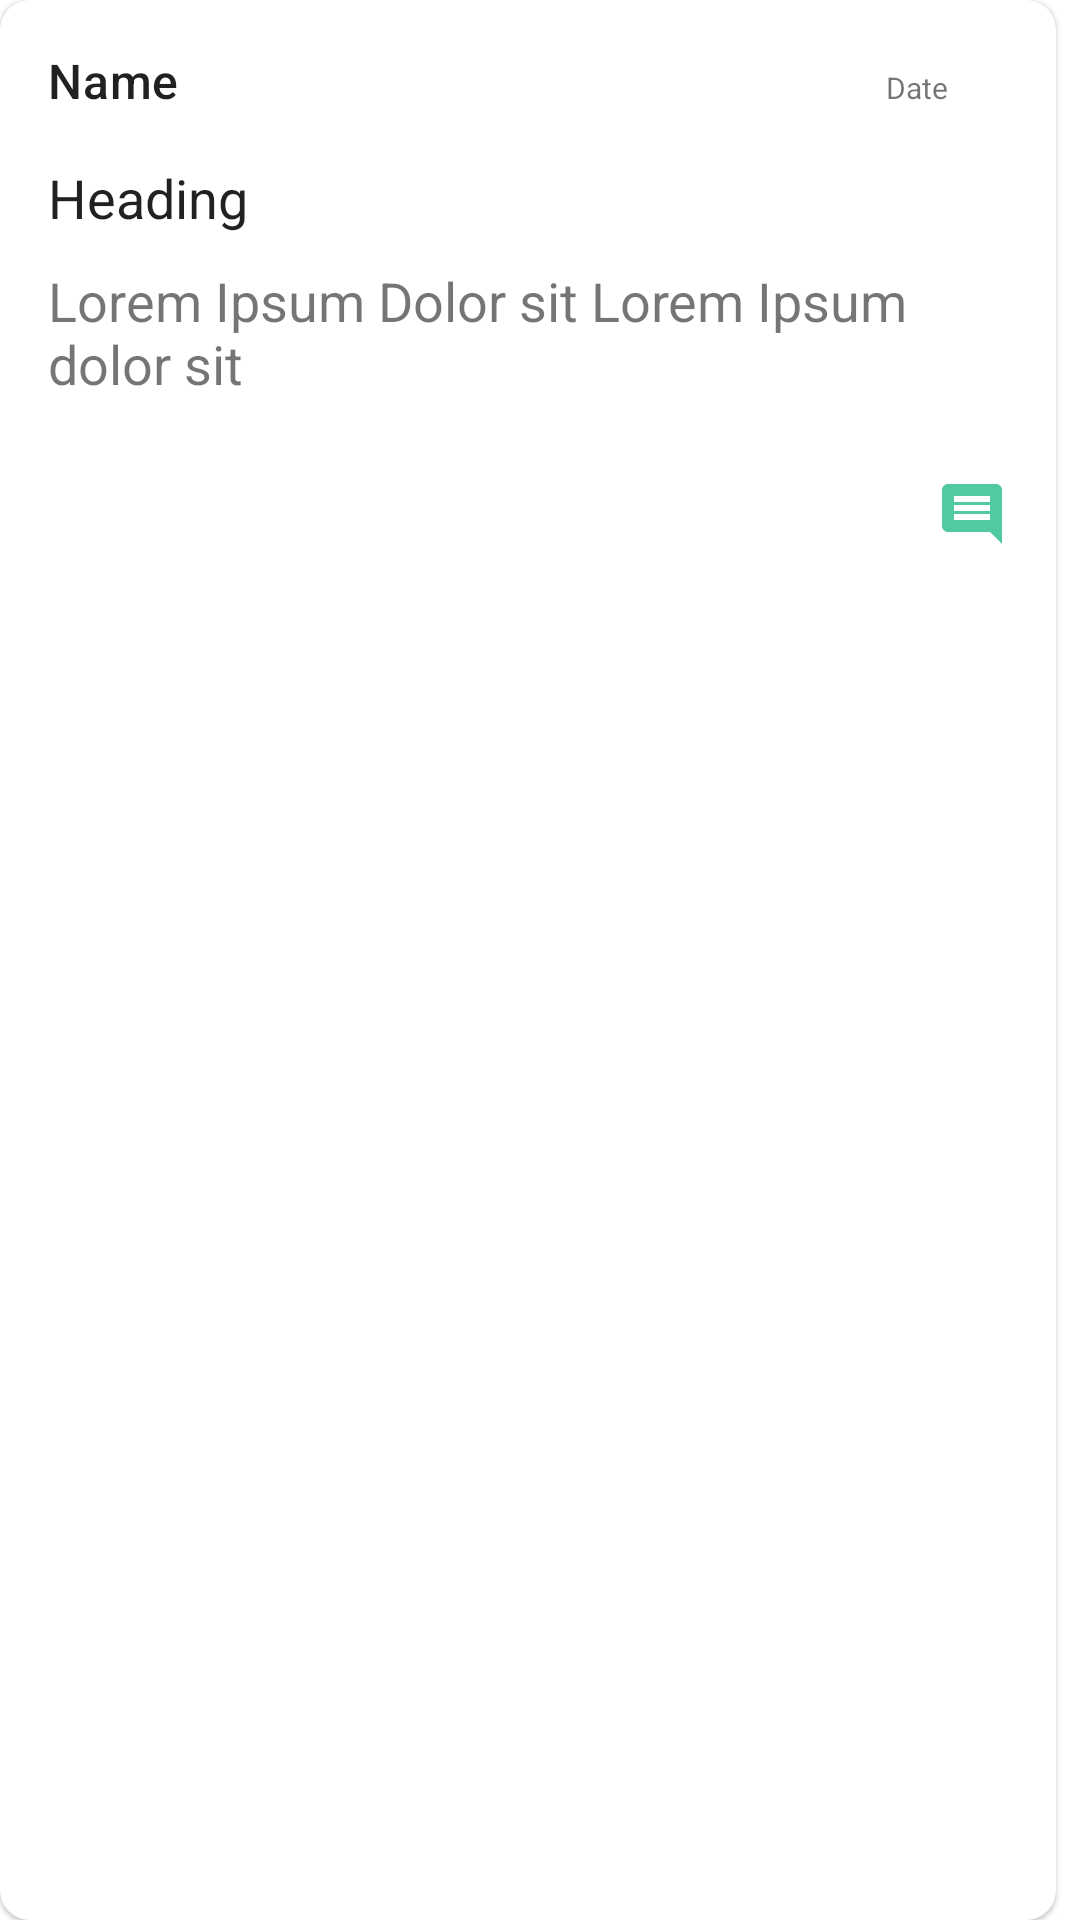

Screen size 1080px×1920px. Icon name, then its box in pixels as [x1, y1, x2, y2]:
comment: [942, 484, 1002, 544]
